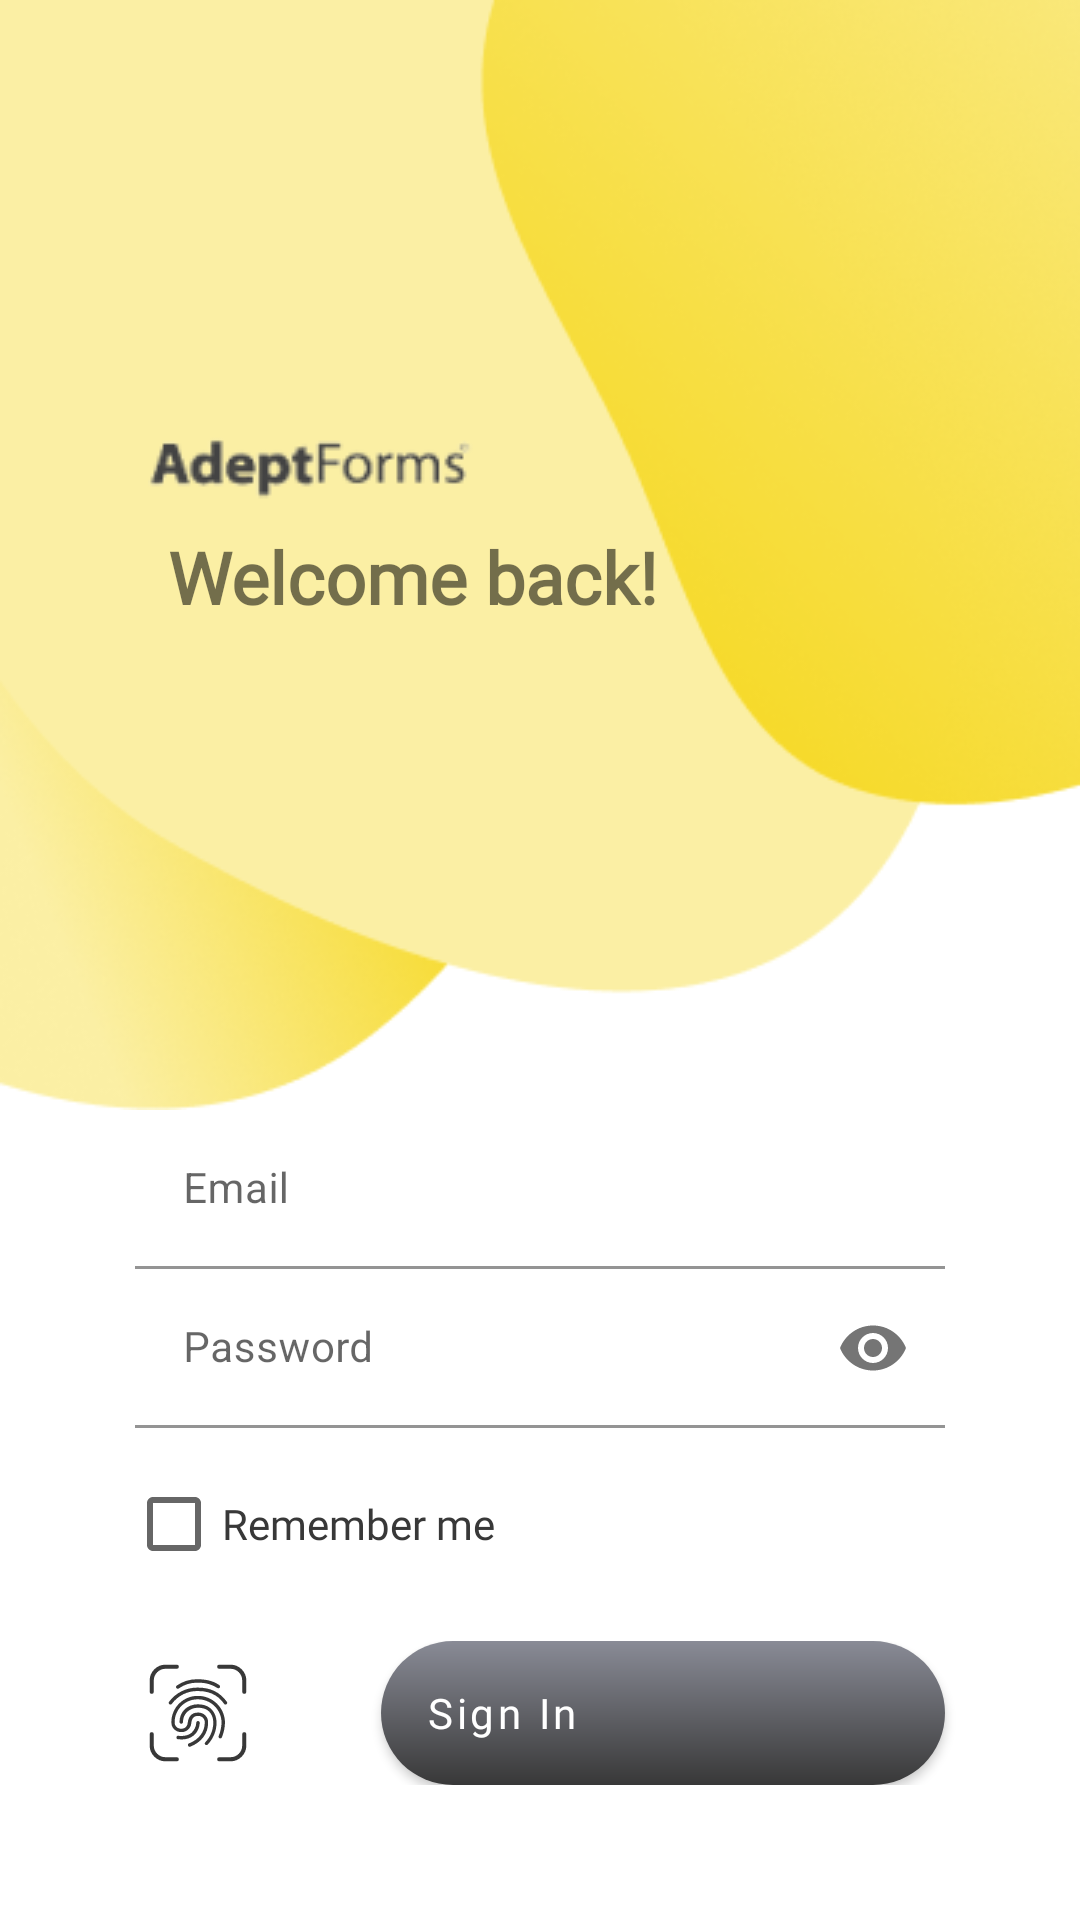

Named icons in this screenshot (1080x1920) and their bounding boxes, rect(x1, y1, x2, y2):
fingerprint: rect(149, 1664, 247, 1762)
